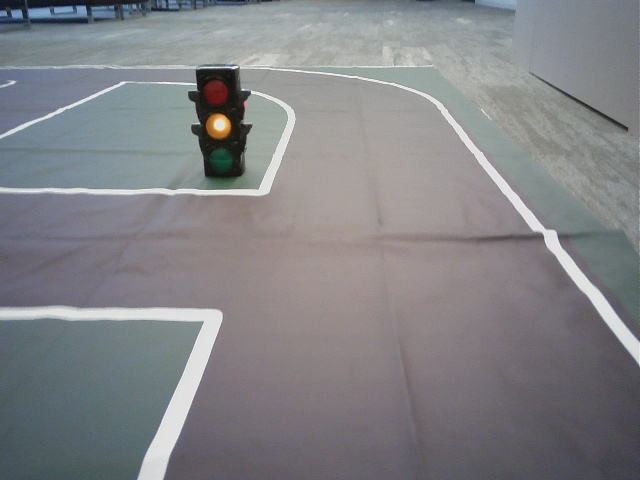yellow: (200, 73, 241, 174)
